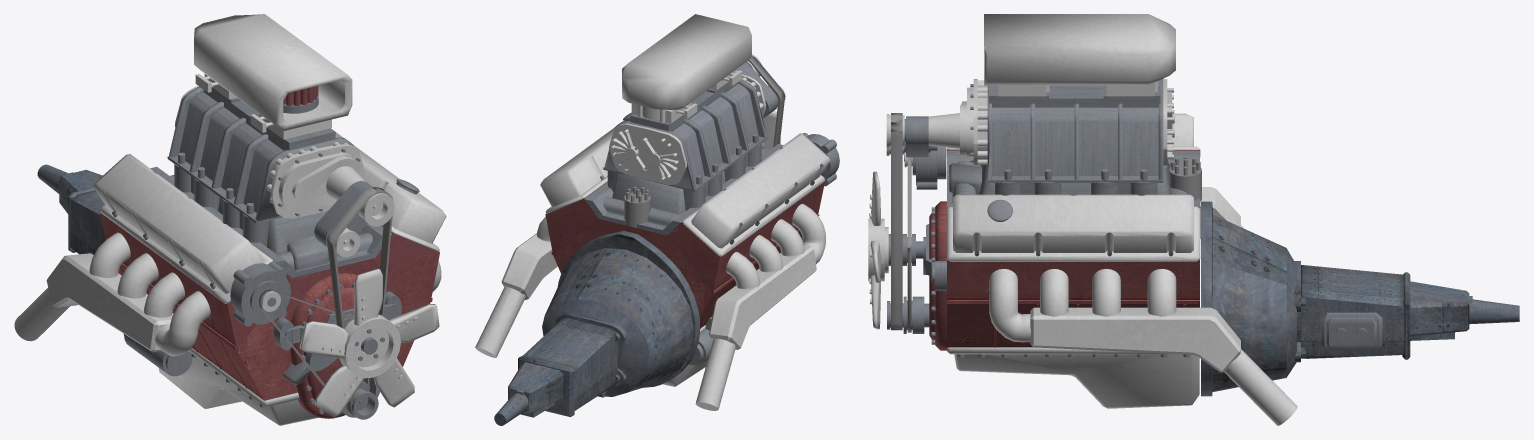
File: engine.fbx
3 views of the same model, side by side, from view 1: azimuth 30°, elevation 25°; view 2: azimuth 150°, elevation 25°; view 3: azimuth 270°, elevation 25° (orthographic). The views are drawn at different scales.
Parts seen in each view (by area): view 1: right_exhaust, air_intake, right_cover, super_charger, fan, engine_block1, intake_manifold, super_charger_front_cover, oil_pan, gearbox, left_cover, front_cover (+12 smaller); view 2: gearbox, right_exhaust, air_intake, right_cover, super_charger, intake_manifold, left_exhaust, super_charger_rear_cover, right_head, engine_block1, left_cover, left_head (+8 smaller); view 3: gearbox, left_exhaust, left_cover, super_charger, air_intake, oil_pan, left_head, intake_manifold, super_charger_front_cover, engine_block1, belt_01, fan (+12 smaller).
Part boxes in pixels (x1,y1,x2,y2): right_exhaust: (14,232,210,356); air_intake: (194,14,352,131); right_cover: (93,154,272,303); super_charger: (167,86,353,223); fan: (299,268,439,417); engine_block1: (118,258,430,400); intake_manifold: (150,164,392,277); super_charger_front_cover: (266,142,365,218); oil_pan: (158,348,379,425); gearbox: (37,164,105,254); left_cover: (335,132,446,251); front_cover: (290,273,370,418); gearbox: (494,231,699,425); right_exhaust: (695,203,825,410); air_intake: (622,14,751,110); right_cover: (682,133,830,256); super_charger: (603,79,767,191); intake_manifold: (584,142,783,235); left_exhaust: (475,216,557,357); super_charger_rear_cover: (609,123,686,184); right_head: (667,180,825,294); engine_block1: (553,219,802,328); left_cover: (540,120,629,213); left_head: (545,182,607,255); gearbox: (1201,201,1519,396); left_exhaust: (989,269,1297,425); left_cover: (946,194,1200,261); super_charger: (987,79,1163,182); air_intake: (984,14,1175,85); oil_pan: (947,347,1199,408); left_head: (947,207,1199,303); intake_manifold: (947,151,1199,207); super_charger_front_cover: (928,79,987,166); engine_block1: (947,304,1199,347); belt_01: (891,113,902,330); fan: (868,171,888,329).
Size of the model in its own units: 60.03 by 70.71 by 116.
